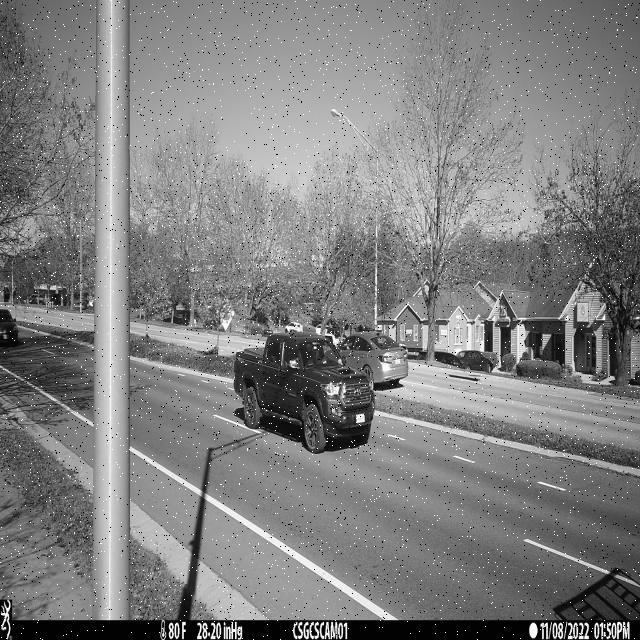Pickup: (232, 331, 375, 455)
